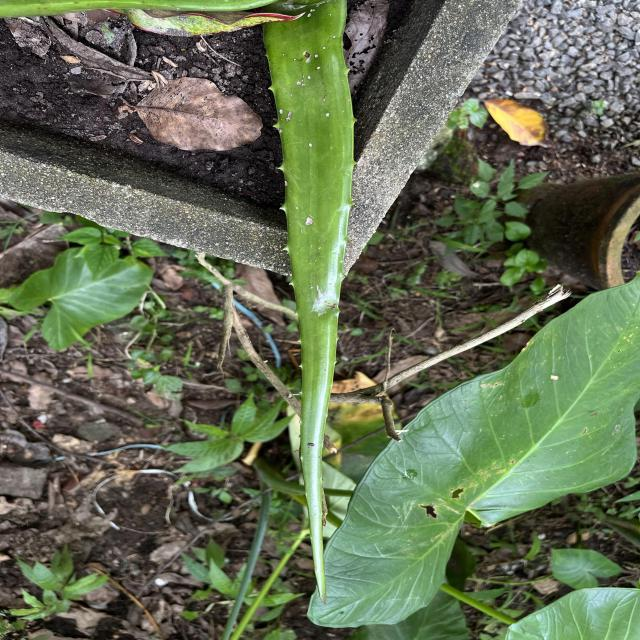Aloe vera: (250, 3, 366, 604)
